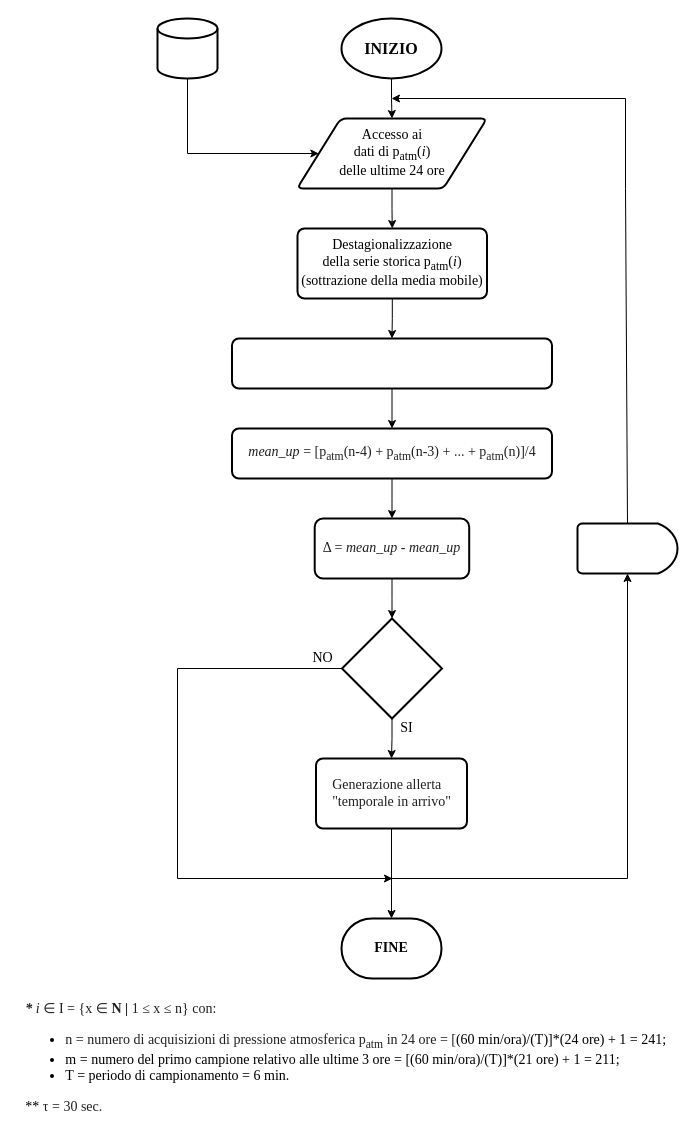
The diagram is 695 pixels wide and 1135 high, and some of its shapes have lost their labels. Here are the shapes that lost their labels. From the top down, the centre of each, then its label:
(x=187, y=48): DB
(x=391, y=363): mean_lw = [p atm (m) + p atm (m+1) + ... + p atm (m+4)]/4
(x=627, y=548): Ritardo T + τ
(x=391, y=668): Δ ≤ -5 hPa
